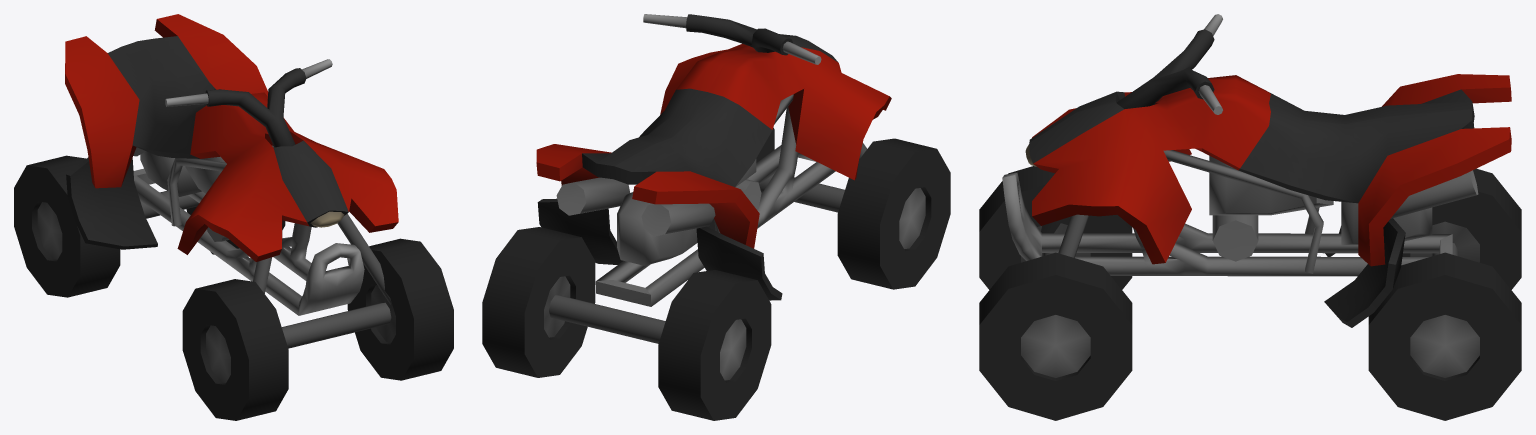
3 views of the same model, side by side, from view 1: azimuth 30°, elevation 25°; view 2: azimuth 150°, elevation 25°; view 3: azimuth 270°, elevation 25° (orthographic). The views are drawn at different scales.
Parts seen in each view (by area): view 1: base.897; view 2: base.897; view 3: base.897.
Boxes of the visible parts, bbox=[...] form: base.897: bbox=[14, 14, 453, 420]; base.897: bbox=[482, 14, 950, 420]; base.897: bbox=[979, 14, 1521, 420].
Bounding box in the file's own units: 0.2579 × 0.313 × 0.5.
